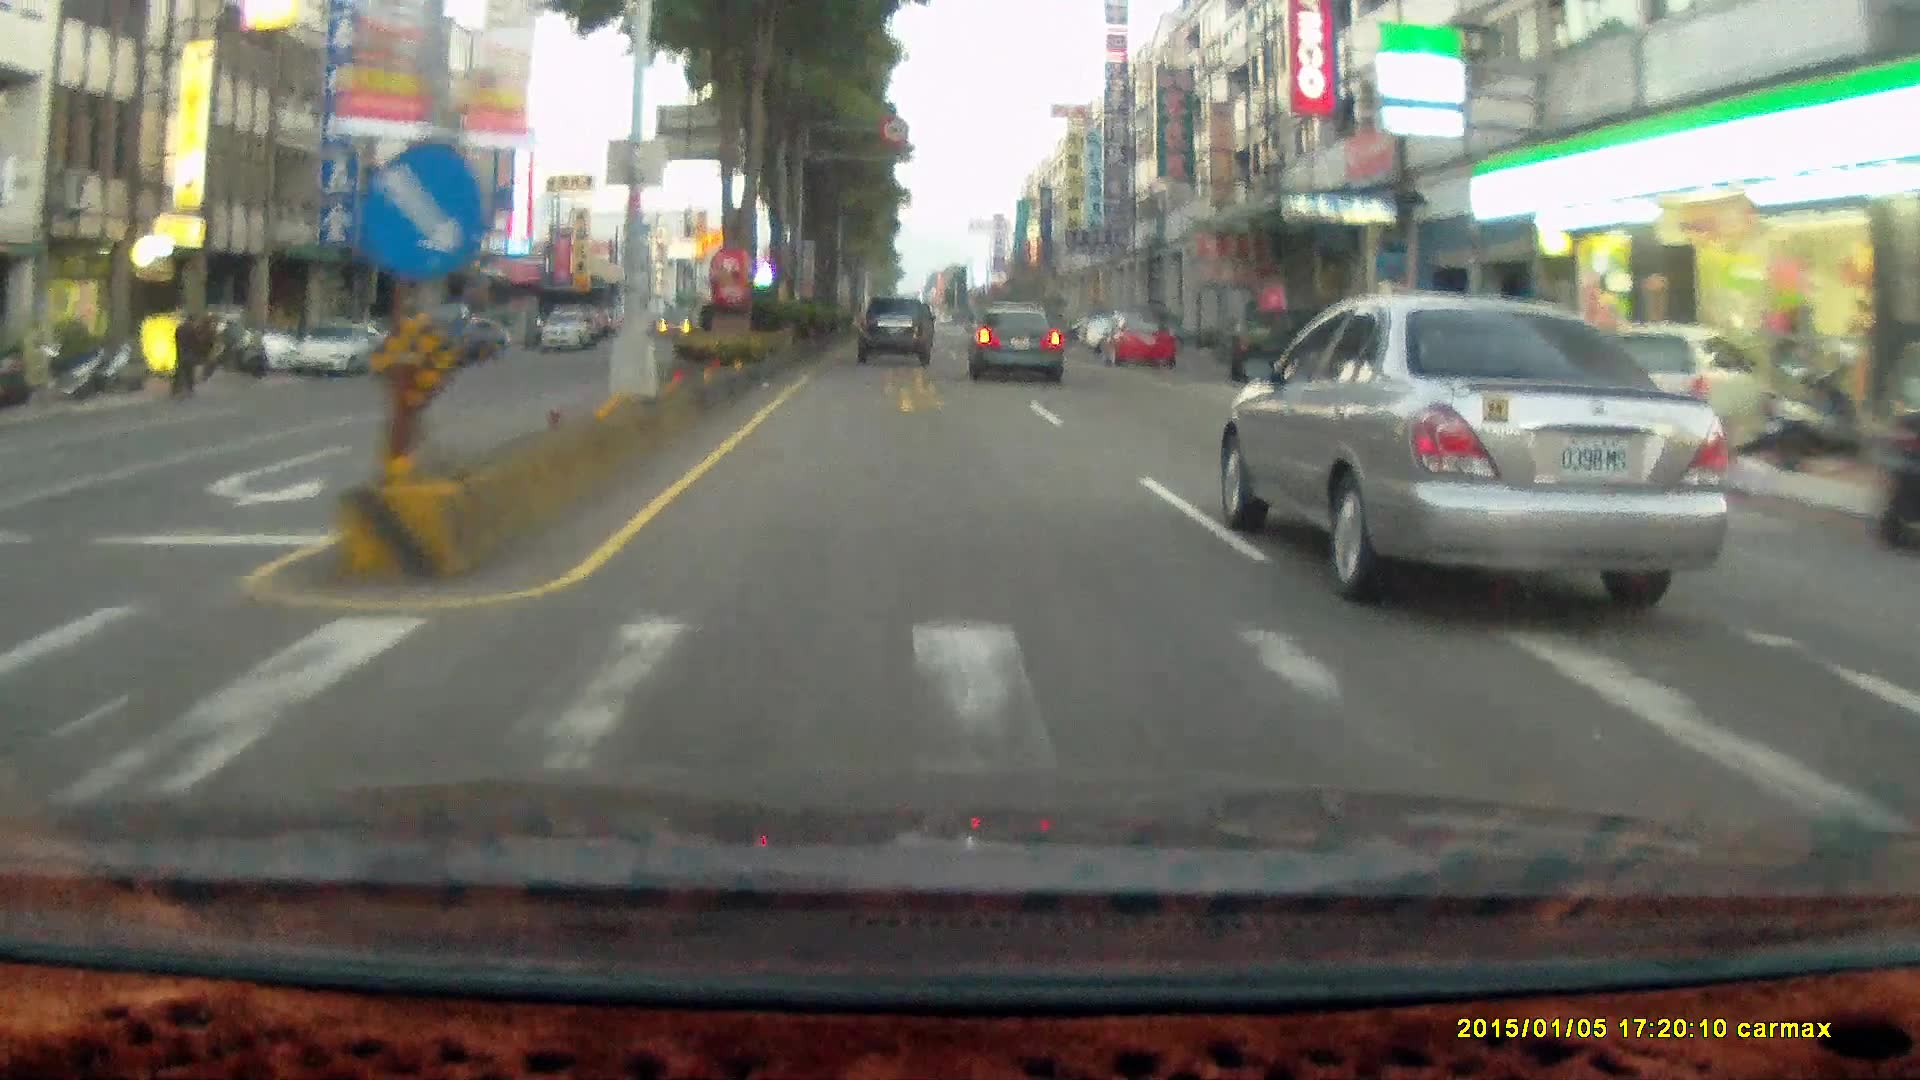pedestrian: (173, 306, 205, 394), (169, 314, 201, 397)
vehicle: (1227, 286, 1733, 588), (1576, 319, 1768, 469), (1379, 316, 1554, 434), (1242, 308, 1400, 385), (1225, 300, 1382, 377), (1871, 339, 1920, 547), (1877, 341, 1920, 549), (165, 303, 293, 370), (968, 302, 1066, 383), (965, 306, 1063, 381), (287, 315, 394, 377), (412, 292, 508, 359), (856, 297, 939, 369), (856, 292, 933, 362), (289, 316, 390, 370), (408, 304, 489, 368), (1099, 303, 1181, 364), (1097, 309, 1172, 363), (432, 318, 510, 361), (541, 306, 595, 352)
